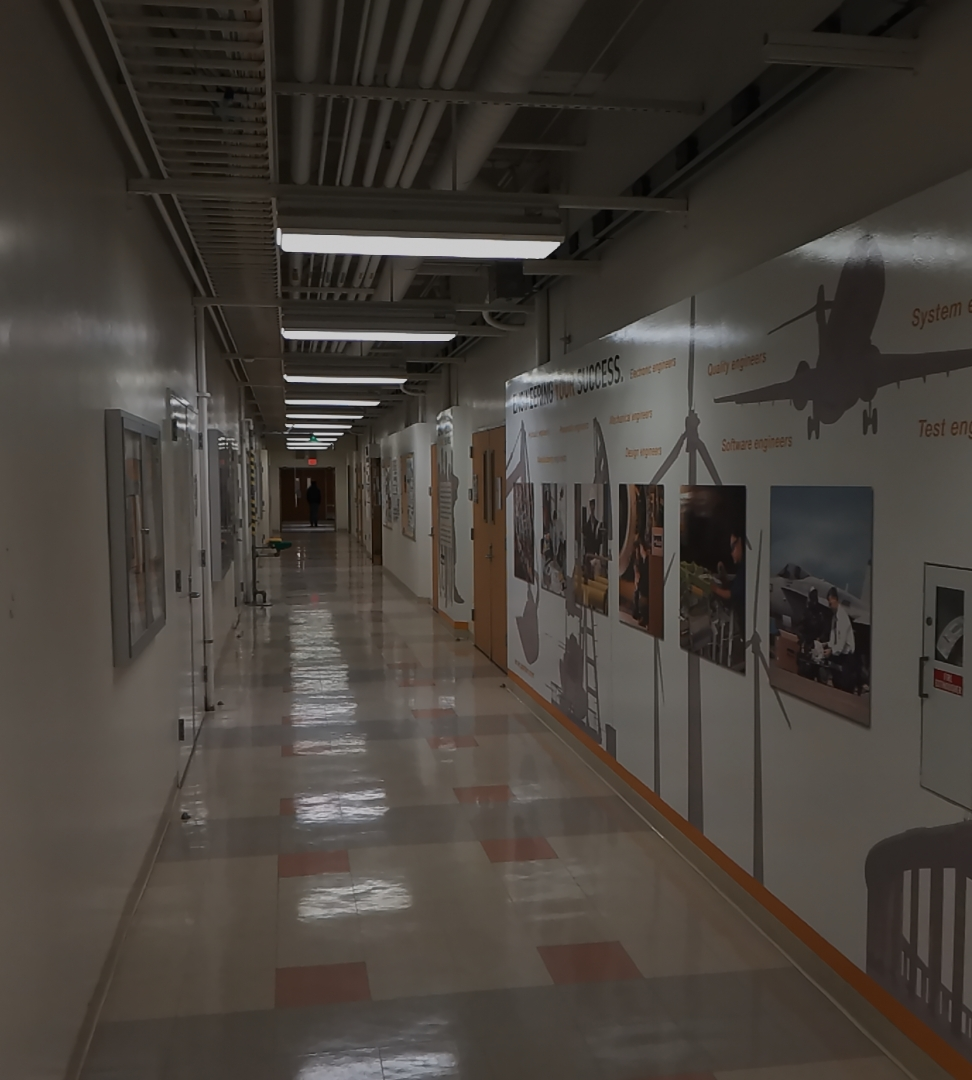emergency_exit: (491, 165, 969, 1068)
